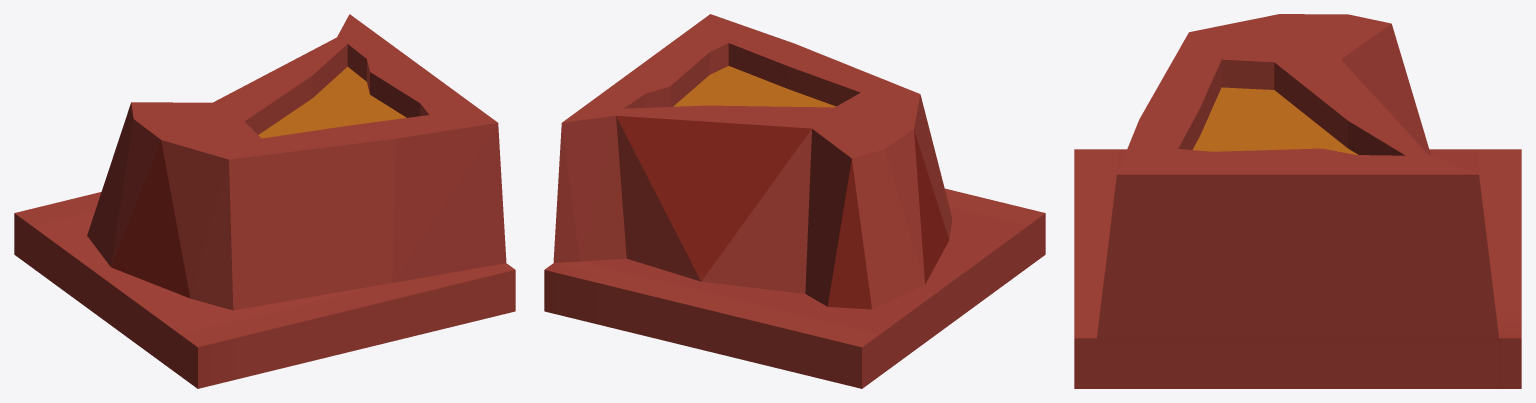
The model's file is Field_13_digged.fbx.
3 renders of one model, left to right at view 1: azimuth 30°, elevation 25°; view 2: azimuth 150°, elevation 25°; view 3: azimuth 270°, elevation 25°, orthographic. The views are drawn at different scales.
Visible parts, largest first — view 1: Plane.027; view 2: Plane.027; view 3: Plane.027.
Boxes of the visible parts, left/top/right/bottom form: Plane.027: left=14, top=14, right=515, bottom=388; Plane.027: left=544, top=14, right=1045, bottom=388; Plane.027: left=1074, top=14, right=1521, bottom=388.
Bounding box in the file's own units: 400 × 212 × 400.
